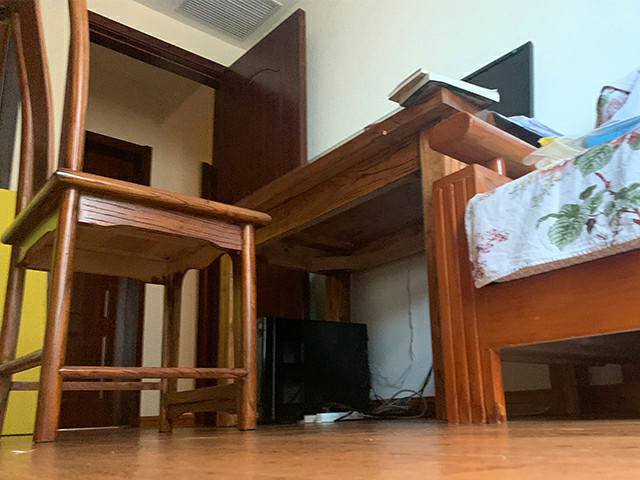sofa: (427, 73, 640, 427)
stool: (1, 1, 269, 443)
table: (217, 84, 495, 430)
wire: (304, 362, 437, 424)
